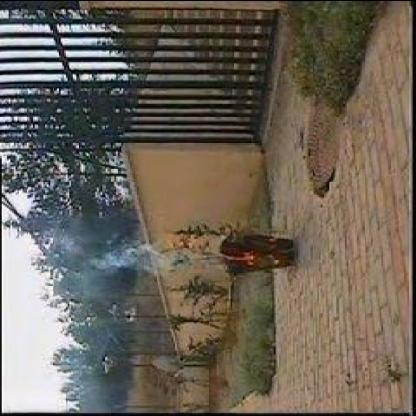-: (53, 230, 164, 270)
foggia-v2-map80-epoch100 - v1 4323: (212, 248, 270, 269)
